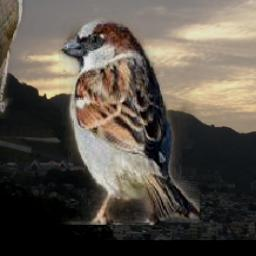Cuckoo: (0, 0, 27, 119)
Sparrow: (59, 17, 200, 225)
